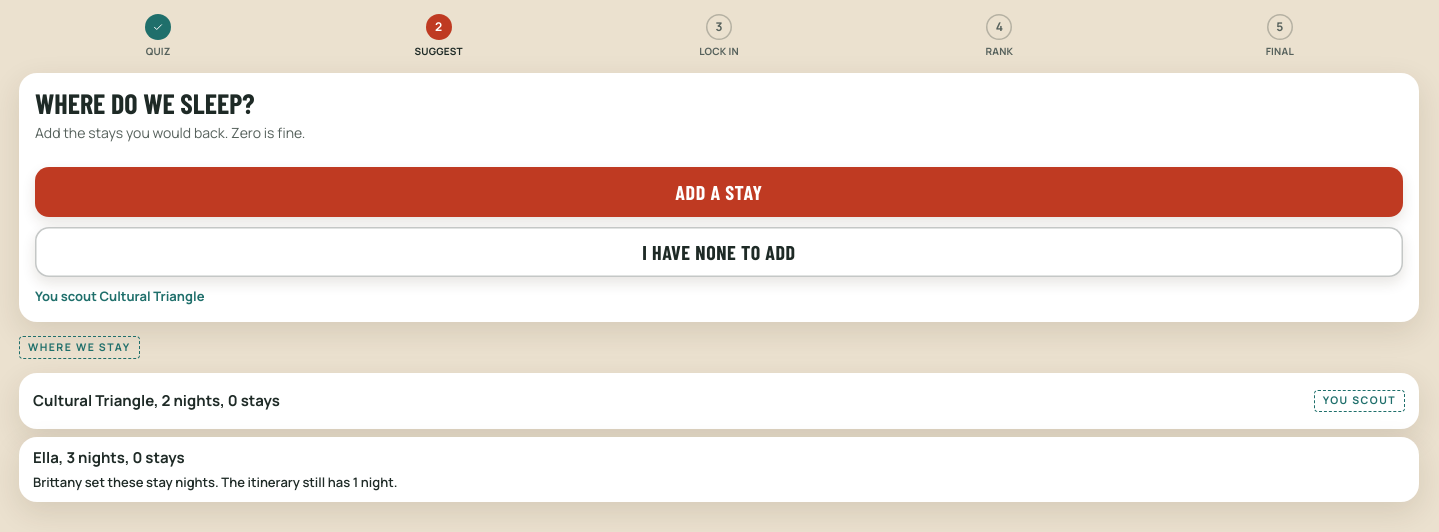
it: only Brittany sees the stepper › Alex sees the override but no control
Expected: the list named "Stays steps" is shown, [145,14,1294,58]
Click the button that starts with "Ella, 3 nights, 0 stays". click: {"x": 109, "y": 457}
box: [19,437,1419,502]
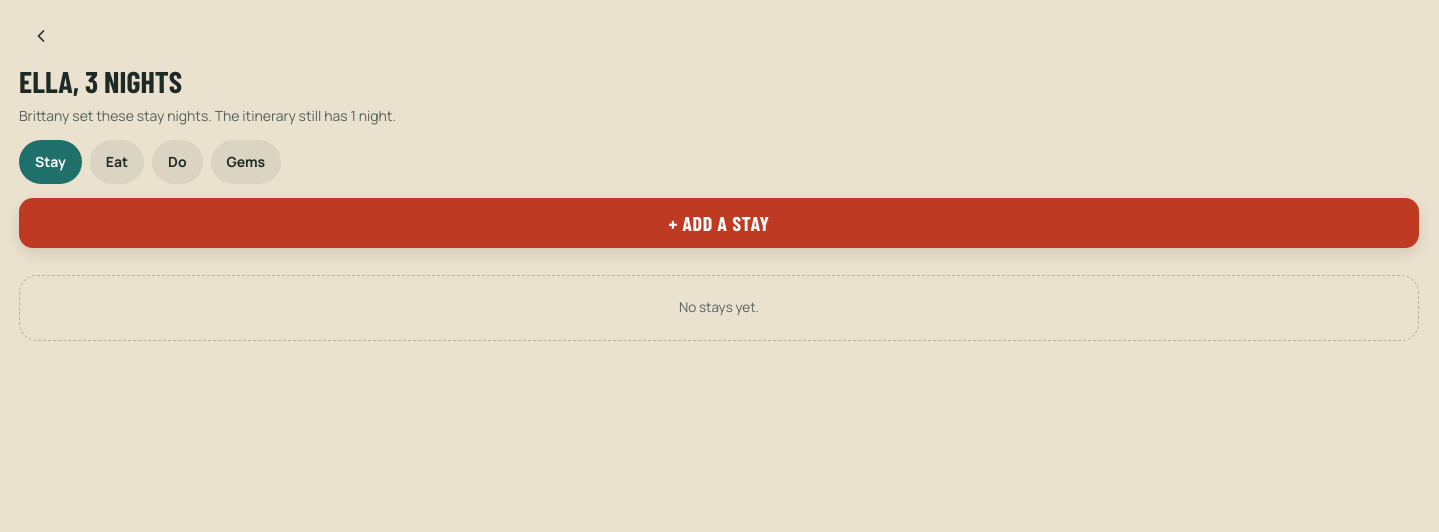
Expected: the heading "Ella, 3 nights" is shown, [19,63,182,99]
Expected: the text "Brittany set these stay nights. The itinerary still has 1 night." is shown, [19,106,396,125]
